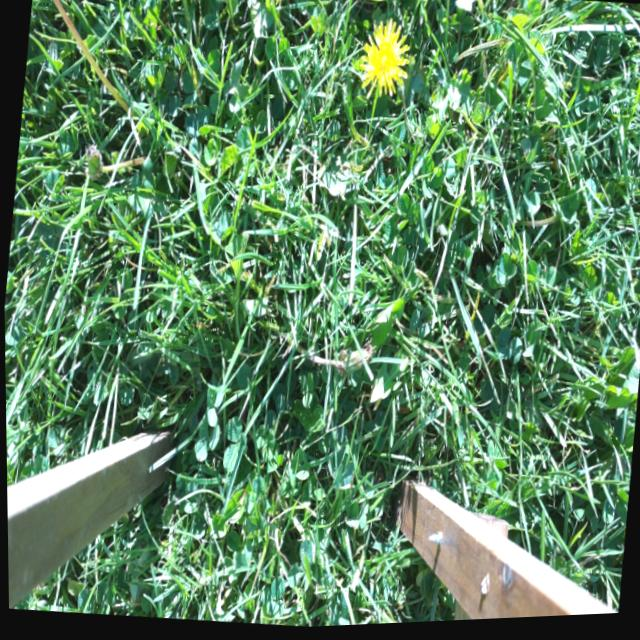base: (275, 326, 293, 354)
